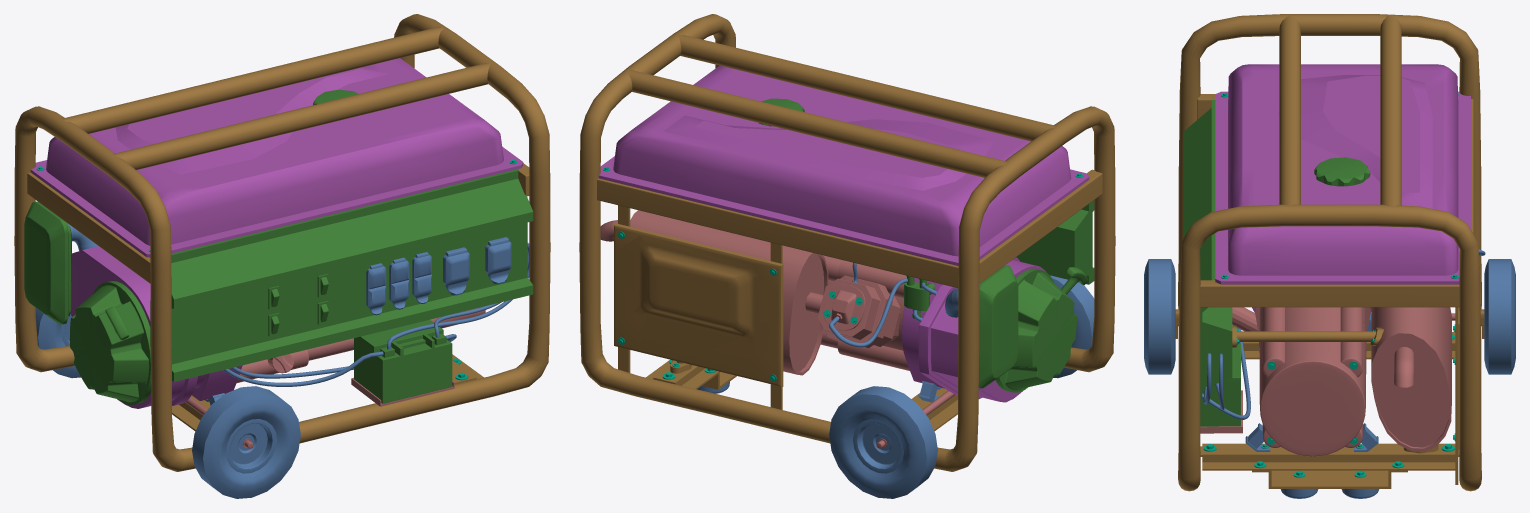
Rendered from Generator.fbx.
3 renders of one model, left to right at view 1: azimuth 30°, elevation 25°; view 2: azimuth 150°, elevation 25°; view 3: azimuth 270°, elevation 25°, orthographic. The views are drawn at different scales.
Parts seen in each view (by area): view 1: frame, gas_tank, front_pannel, wheels, fan_cover, Battery, airbox, fan_case, gas_tank_mount1, larger_outlet_cover, larger_outlet_cover1, case_part (+9 smaller); view 2: frame, gas_tank, heat_shield, wheels, gas_tank_mount3, exhaust, fan_cover, airbox, fan_case, front_pannel, gas_tank_mount1, cylinder_head (+7 smaller); view 3: gas_tank, frame, generator_case, exhaust, wheels, front_pannel, gas_tank_mount, frame_brace1, bump_stop_bracket, exhaust_support, Battery, gas_cap (+6 smaller).
Part boxes in pixels (x1,y1,x2,y2): frame: [14, 14, 550, 471]; gas_tank: [30, 58, 523, 257]; front_pannel: [150, 169, 533, 381]; wheels: [35, 308, 300, 498]; fan_cover: [69, 281, 151, 404]; Battery: [354, 319, 452, 403]; airbox: [24, 201, 71, 324]; fan_case: [70, 246, 197, 408]; gas_tank_mount1: [27, 172, 150, 283]; larger_outlet_cover: [443, 247, 469, 295]; larger_outlet_cover1: [485, 237, 511, 284]; case_part: [192, 365, 242, 400]; frame: [579, 14, 1115, 471]; gas_tank: [598, 65, 1089, 265]; heat_shield: [614, 223, 783, 386]; wheels: [829, 275, 1094, 498]; gas_tank_mount3: [597, 178, 958, 287]; exhaust: [600, 210, 828, 375]; fan_cover: [995, 268, 1076, 392]; airbox: [978, 265, 1018, 388]; fan_case: [918, 257, 1045, 402]; front_pannel: [1016, 200, 1094, 284]; gas_tank_mount1: [979, 169, 1102, 283]; cylinder_head: [817, 275, 900, 348]; gas_tank: [1215, 64, 1470, 284]; frame: [1178, 14, 1481, 491]; generator_case: [1259, 307, 1366, 456]; exhaust: [1371, 307, 1451, 451]; wheels: [1144, 259, 1515, 374]; front_pannel: [1183, 99, 1232, 397]; gas_tank_mount: [1200, 280, 1459, 307]; frame_brace1: [1202, 443, 1455, 470]; bump_stop_bracket: [1252, 470, 1407, 488]; exhaust_support: [1232, 325, 1383, 347]; Battery: [1200, 343, 1240, 426]; gas_cap: [1314, 157, 1370, 186].
Size of the model in its own units: 12.38 by 8.77 by 9.22.
